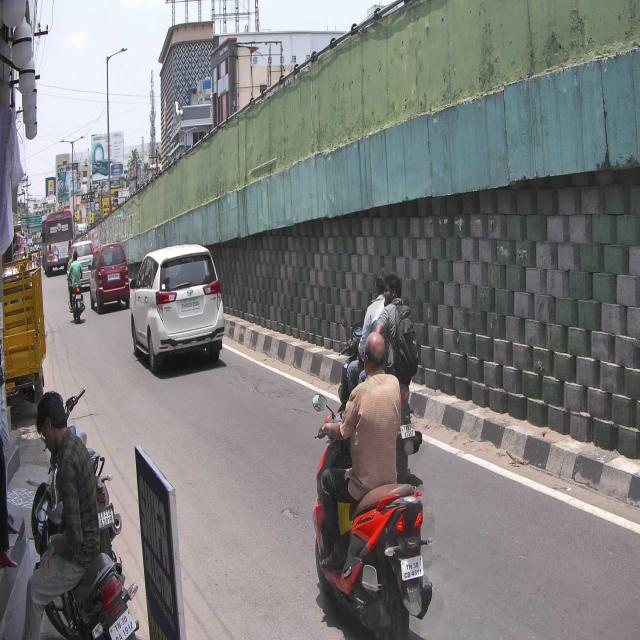single_rider: (311, 327, 435, 640)
